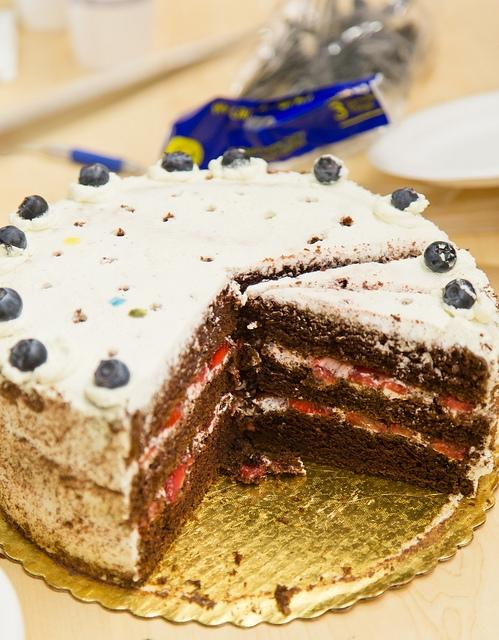blueberry: (9, 338, 48, 372), (424, 241, 458, 273), (94, 359, 130, 389), (442, 279, 476, 309), (16, 195, 48, 221), (0, 288, 22, 322), (78, 162, 109, 186), (162, 150, 194, 172), (314, 158, 342, 182), (391, 187, 419, 211), (0, 226, 27, 250), (221, 146, 250, 166)
strawberry: (348, 367, 392, 388), (165, 464, 187, 502), (347, 412, 387, 432), (290, 399, 334, 416), (437, 396, 475, 414), (432, 442, 466, 461), (210, 344, 230, 370), (312, 364, 334, 386), (161, 410, 182, 433), (384, 382, 410, 398), (138, 446, 157, 465), (240, 464, 264, 479), (390, 424, 413, 437), (194, 364, 208, 384), (202, 413, 216, 430)
